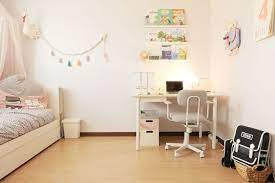Bed: (0, 80, 65, 182)
Chair: (163, 88, 212, 159)
Table: (131, 83, 221, 151)
